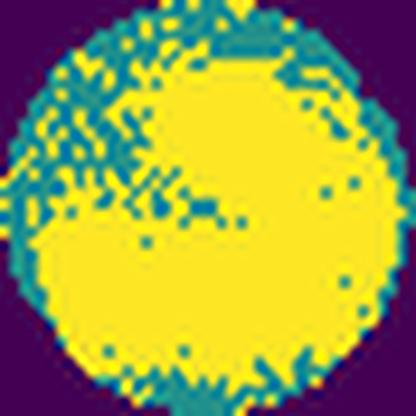Center: (40, 42, 397, 389)
